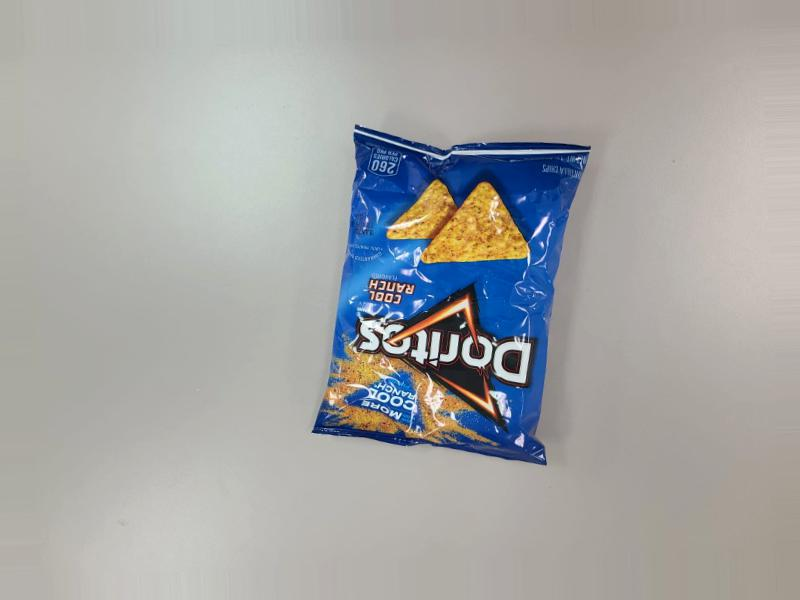doritos: (325, 132, 573, 469)
